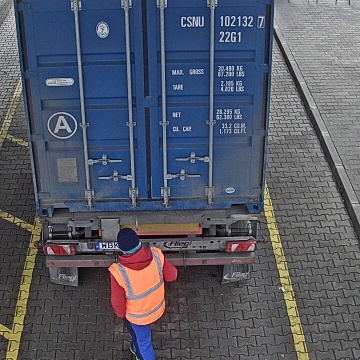serial_id: (180, 15, 263, 27)
